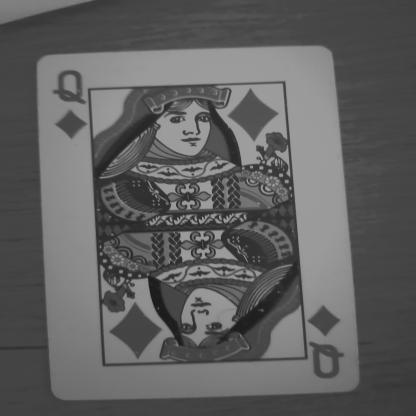QD: (286, 292, 355, 379), (44, 66, 104, 147)
